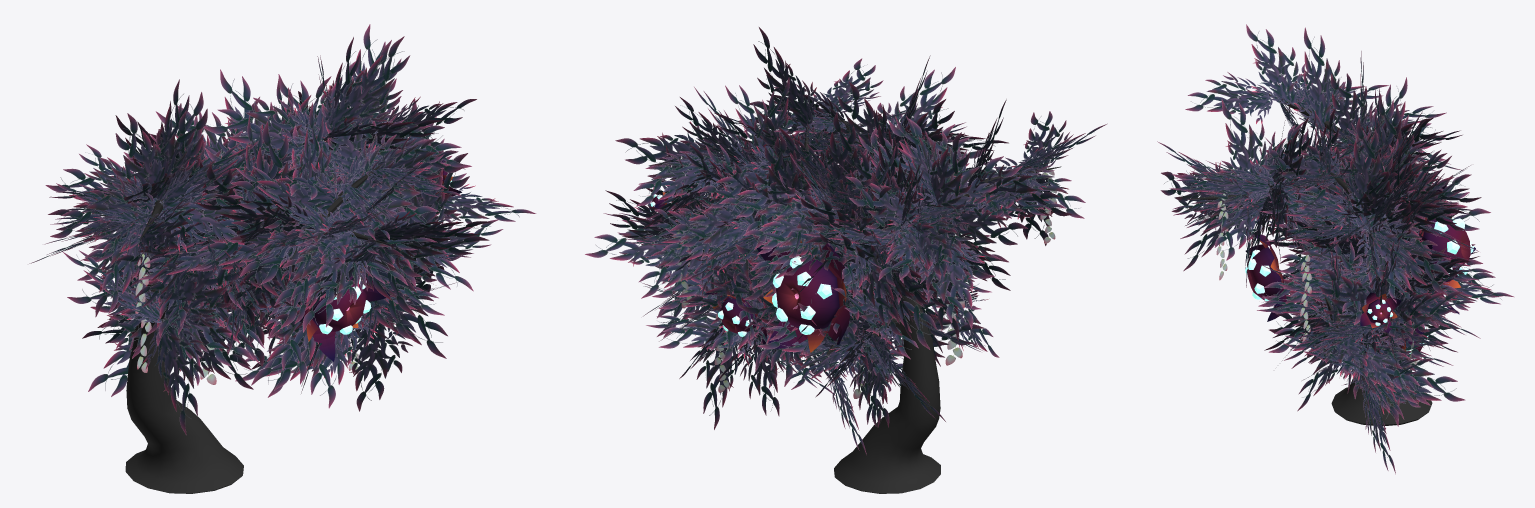
Rendered from Space_tree.glb.
The picture shows the model from 3 angles, left to right: view 1: azimuth 30°, elevation 25°; view 2: azimuth 150°, elevation 25°; view 3: azimuth 270°, elevation 25°; orthographic projection. The views are drawn at different scales.
Visible parts, largest first — view 1: tree1, flower; view 2: tree1, flower.001, flower.002; view 3: tree1, flower.001, flower, flower.003.
Part boxes in pixels (x1=…): tree1: x1=29, y1=24, x2=536, y2=493; flower: x1=299, y1=266, x2=389, y2=361; tree1: x1=585, y1=27, x2=1107, y2=493; flower.001: x1=757, y1=240, x2=849, y2=352; flower.002: x1=704, y1=292, x2=766, y2=344; tree1: x1=1157, y1=24, x2=1514, y2=474; flower.001: x1=1419, y1=182, x2=1475, y2=314; flower: x1=1245, y1=234, x2=1287, y2=321; flower.003: x1=1360, y1=292, x2=1401, y2=332.
Size of what is drawn, in the model's own units: 21.46 by 17.65 by 16.13.
4 materials, 4 textured.
